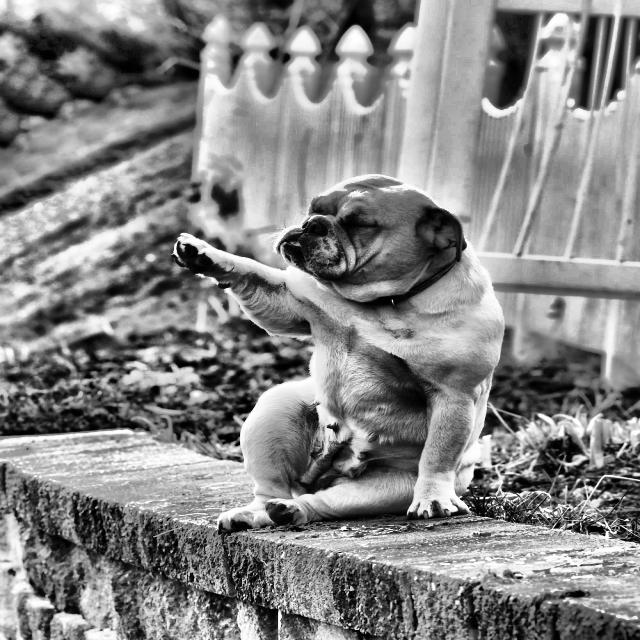bulldog: (253, 164, 478, 314)
